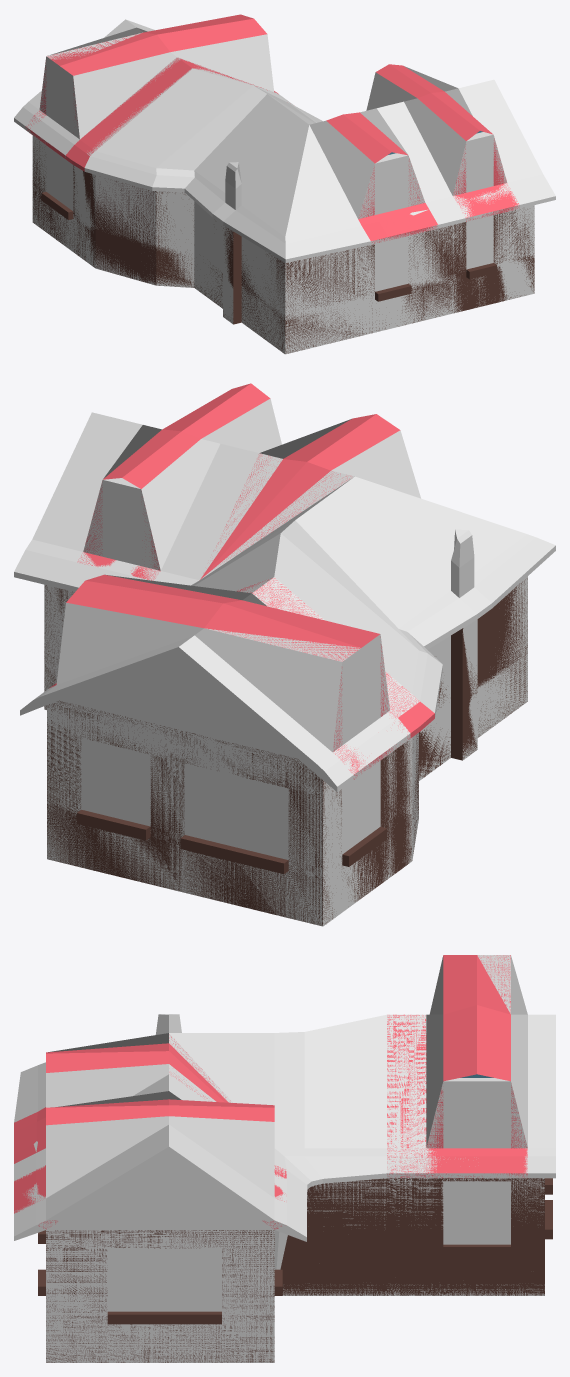
File: M_House4.fbx
The picture shows the model from 3 angles, top to bottom: view 1: azimuth 30°, elevation 25°; view 2: azimuth 150°, elevation 25°; view 3: azimuth 270°, elevation 25°; orthographic projection. The views are drawn at different scales.
Visible parts, largest first — view 1: M_House4.001, M_House4; view 2: M_House4.001, M_House4; view 3: M_House4.001, M_House4.
Part boxes in pixels (left/top/right/bottom): M_House4.001: left=14, top=19, right=555, bottom=354; M_House4: left=25, top=14, right=534, bottom=353; M_House4.001: left=14, top=398, right=555, bottom=926; M_House4: left=44, top=383, right=527, bottom=925; M_House4.001: left=14, top=955, right=555, bottom=1362; M_House4: left=14, top=955, right=552, bottom=1362.
Size of the model in its own units: 934 by 503 by 1068.
